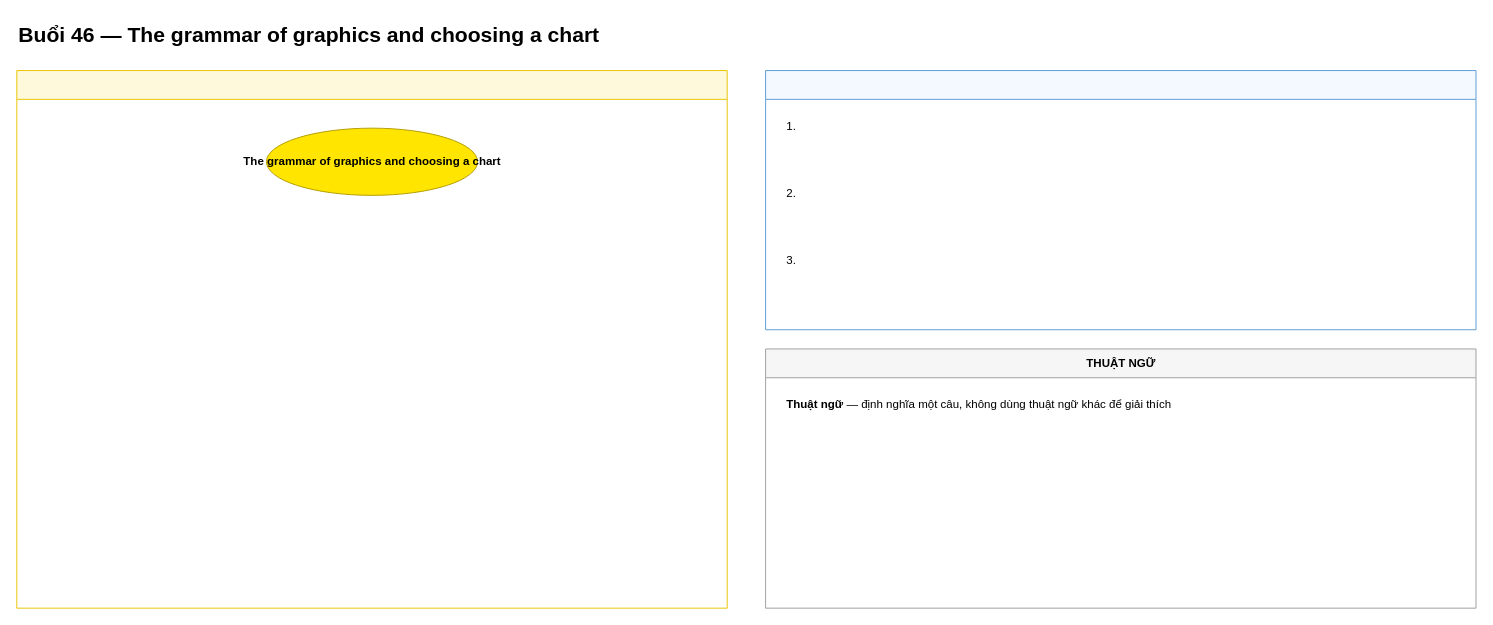
Some shapes in this 1493 by 625 pixel diagram are drawn without their labels. Each missing label, with the box of its shape:
KEY TAKEAWAY — ba điều phải nhớ: (765, 70, 1476, 330)
MINDMAP: (16, 70, 727, 608)
